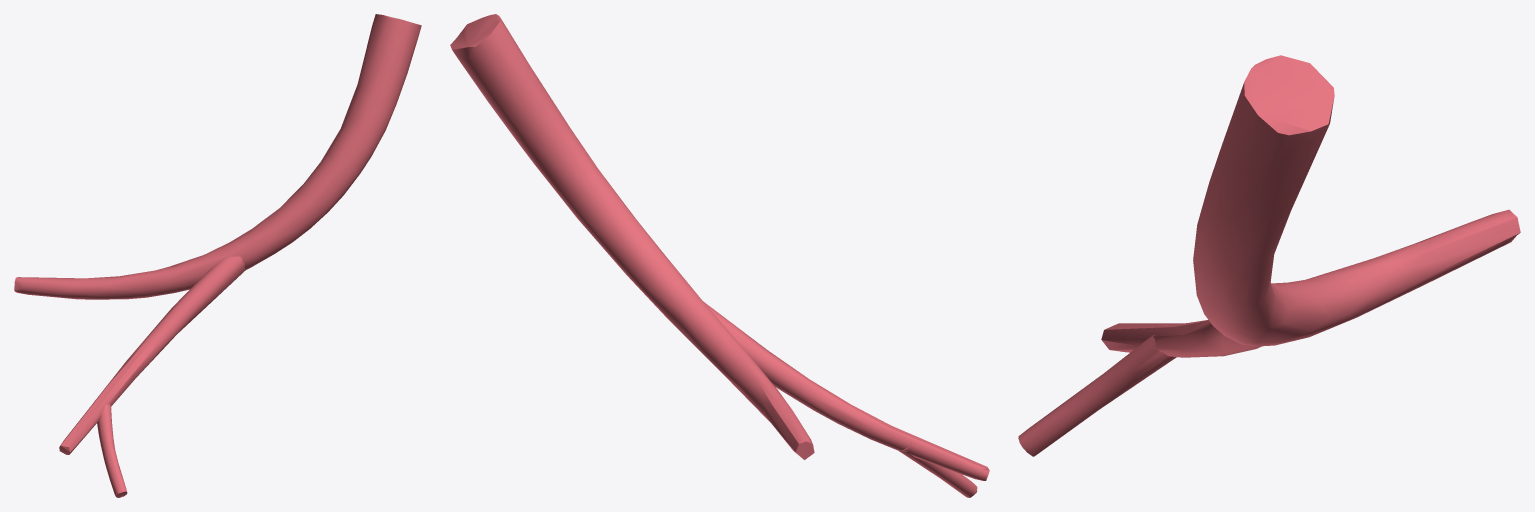
Rendered from fma8630_cx259.glb.
3 renders of one model, left to right at view 1: azimuth 30°, elevation 25°; view 2: azimuth 150°, elevation 25°; view 3: azimuth 270°, elevation 25°, orthographic. The views are drawn at different scales.
Parts seen in each view (by area): view 1: FMA8630_CX259; view 2: FMA8630_CX259; view 3: FMA8630_CX259.
Boxes of the visible parts, x1=… form: FMA8630_CX259: x1=14, y1=14, x2=421, y2=497; FMA8630_CX259: x1=450, y1=14, x2=989, y2=497; FMA8630_CX259: x1=1018, y1=55, x2=1520, y2=456.
Size of the model in its own units: 0.0657 by 0.0564 by 0.0358.
